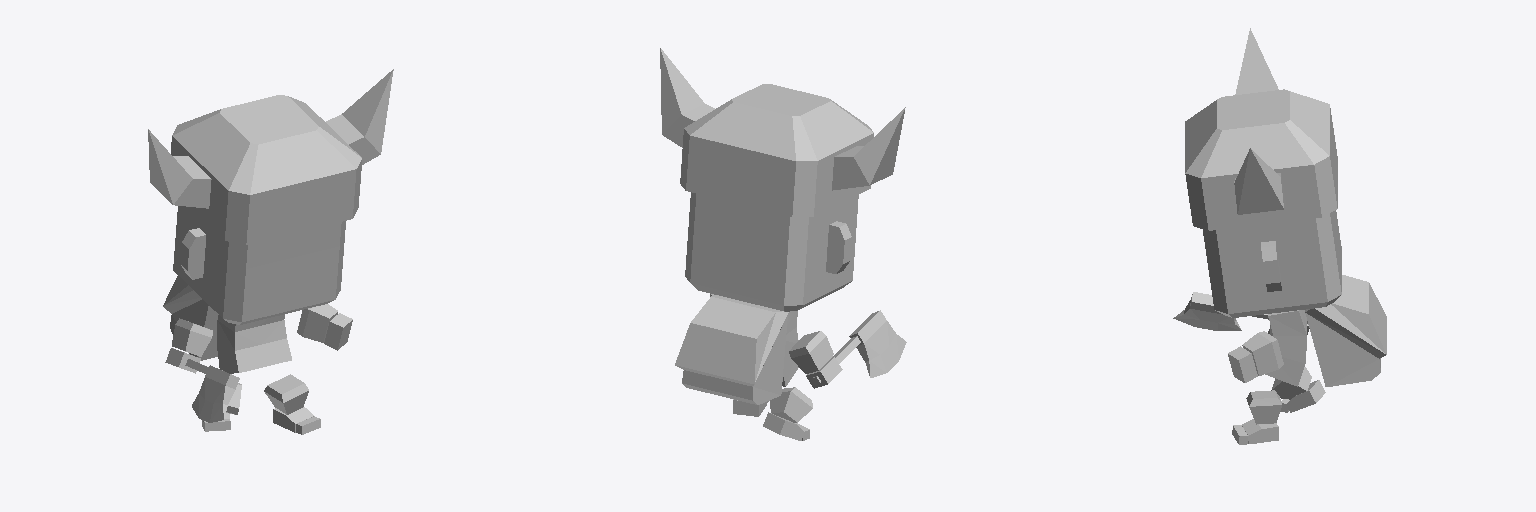
Rendered from mini_knight_000007.obj.
3 renders of one model, left to right at view 1: azimuth 30°, elevation 25°; view 2: azimuth 150°, elevation 25°; view 3: azimuth 270°, elevation 25°, orthographic.
Visible parts, largest first — view 1: cap_Object01_Material__3, Mesh_objheadusOBJexport_Material, back_Object03_Material__3, axe_Object02_Material__3; view 2: cap_Object01_Material__3, Mesh_objheadusOBJexport_Material, back_Object03_Material__3, axe_Object02_Material__3; view 3: cap_Object01_Material__3, Mesh_objheadusOBJexport_Material, back_Object03_Material__3, axe_Object02_Material__3.
Part boxes in pixels (x1,y1,x2,y2): cap_Object01_Material__3: (148,69,393,244); Mesh_objheadusOBJexport_Material: (165,206,352,434); back_Object03_Material__3: (163,276,218,360); axe_Object02_Material__3: (185,359,239,422); cap_Object01_Material__3: (660,48,905,216); Mesh_objheadusOBJexport_Material: (685,192,858,440); back_Object03_Material__3: (675,294,788,404); axe_Object02_Material__3: (812,310,906,384); cap_Object01_Material__3: (1185,28,1337,230); Mesh_objheadusOBJexport_Material: (1203,210,1341,444); back_Object03_Material__3: (1305,275,1386,386); axe_Object02_Material__3: (1173,292,1268,330).
Size of the model in its own units: 1.94 by 2.54 by 1.46.